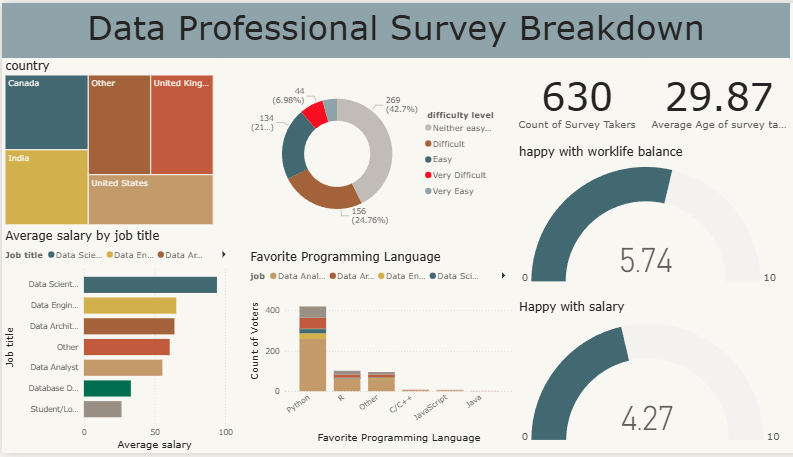

What the dashboard file says about the page in this screenshot:
{"tool":"powerbi","page":{"name":"Page 1","canvas":[1280,720],"ordinal":0},"visuals":[{"type":"textbox","box":[0,0,1261.1,87.8],"z":0},{"type":"card","fields":{"Values":["CountNonNull(Data Professional Survey.Unique ID)"]},"box":[816.5,87.8,208.6,137.2],"z":1000},{"type":"card","fields":{"Values":["Avg(Data Professional Survey.Q10 - Current Age)"]},"box":[1034.7,87.8,226.4,137.2],"z":2000},{"type":"barChart","title":"Average salary by job title","fields":{"Category":["Data Professional Survey.Q1 - Which Title Best Fits your Current Role?.1"],"Y":["Avg(Data Professional Survey.average salary)"],"Series":["Data Professional Survey.Q1 - Which Title Best Fits your Current Role?.1"]},"box":[0,359.5,374.6,360.9],"z":3000},{"type":"columnChart","title":" Favorite Programming Language","fields":{"Category":["Data Professional Survey.Q5 - Favorite Programming Language.1"],"Y":["CountNonNull(Data Professional Survey.Unique ID)"],"Series":["Data Professional Survey.Q1 - Which Title Best Fits your Current Role?.1"]},"box":[392.5,393.8,429.5,314.2],"z":4000},{"type":"treemap","title":"country","fields":{"Group":["Data Professional Survey.Q11 - Which Country do you live in?.1"],"Values":["Count(Data Professional Survey.Q11 - Which Country do you live in?.1)"]},"box":[0,87.8,343.1,271.7],"z":4001},{"type":"gauge","title":"happy with worklife balance","fields":{"Y":["Avg(Data Professional Survey.Q6 - How Happy are you in your Current Position with the following? (Work/Life Balance))"],"MinValue":["Min(Data Professional Survey.Q6 - How Happy are you in your Current Position with the following? (Work/Life Balance))1"],"MaxValue":["Max(Data Professional Survey.Q6 - How Happy are you in your Current Position with the following? (Work/Life Balance))2"]},"box":[822,225,426.8,238.8],"z":4002},{"type":"gauge","title":"Happy with salary","fields":{"Y":["Avg(Data Professional Survey.Q6 - How Happy are you in your Current Position with the following? (Salary))"],"MinValue":["Min(Data Professional Survey.Q6 - How Happy are you in your Current Position with the following? (Salary))"],"MaxValue":["Max(Data Professional Survey.Q6 - How Happy are you in your Current Position with the following? (Salary))"]},"box":[822,473.4,432.2,247],"z":4003},{"type":"donutChart","title":"avg salary by gender","fields":{"Category":["Data Professional Survey.Q7 - How difficult was it for you to break into Data?"],"Y":["CountNonNull(Data Professional Survey.Q7 - How difficult was it for you to break into Data?)"],"Series":["Data Professional Survey.Q7 - How difficult was it for you to break into Data?"]},"box":[392.5,94.7,408.9,295],"z":4004}]}

Visuals, with their boxes in screenshot pixels (x1, y1, x2, y2), scaled from the page's 1280x720 canvas onto the 793x457 screenshot:
textbox: box=[0, 0, 781, 56]
card - CountNonNull(Data Professional Survey.Unique ID): box=[506, 56, 635, 143]
card - Avg(Data Professional Survey.Q10 - Current Age): box=[641, 56, 781, 143]
"Average salary by job title" barChart: box=[0, 228, 232, 456]
" Favorite Programming Language" columnChart: box=[243, 250, 509, 449]
"country" treemap: box=[0, 56, 213, 228]
"happy with worklife balance" gauge: box=[509, 143, 774, 294]
"Happy with salary" gauge: box=[509, 300, 777, 456]
"avg salary by gender" donutChart: box=[243, 60, 496, 247]
